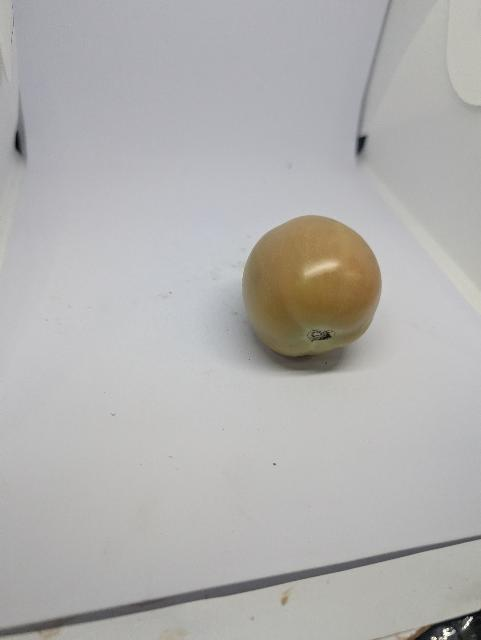breaker: (243, 215, 382, 356)
